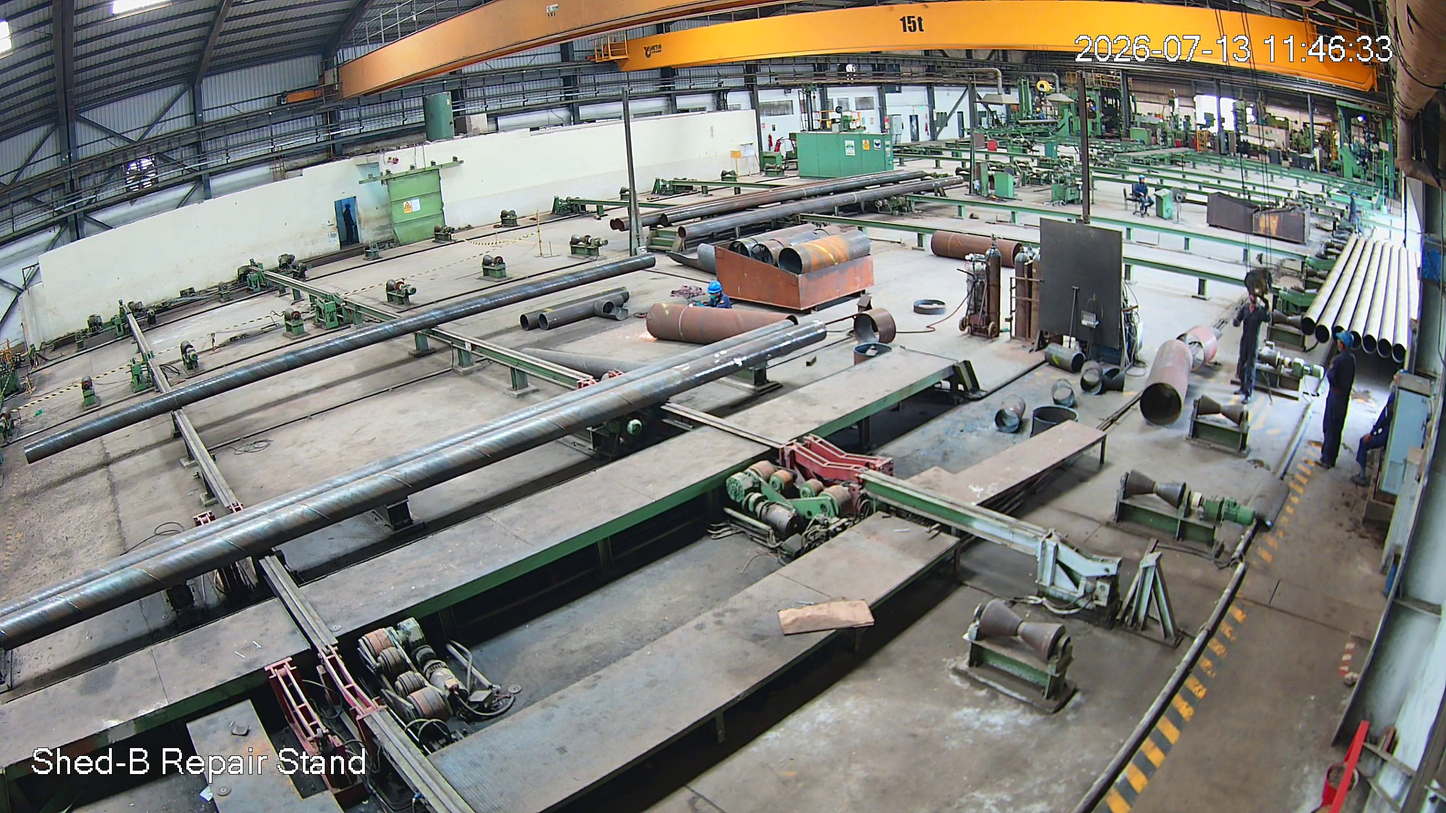Helmet: (1332, 329, 1359, 356)
Person: (1322, 329, 1360, 469), (1233, 289, 1275, 408)
